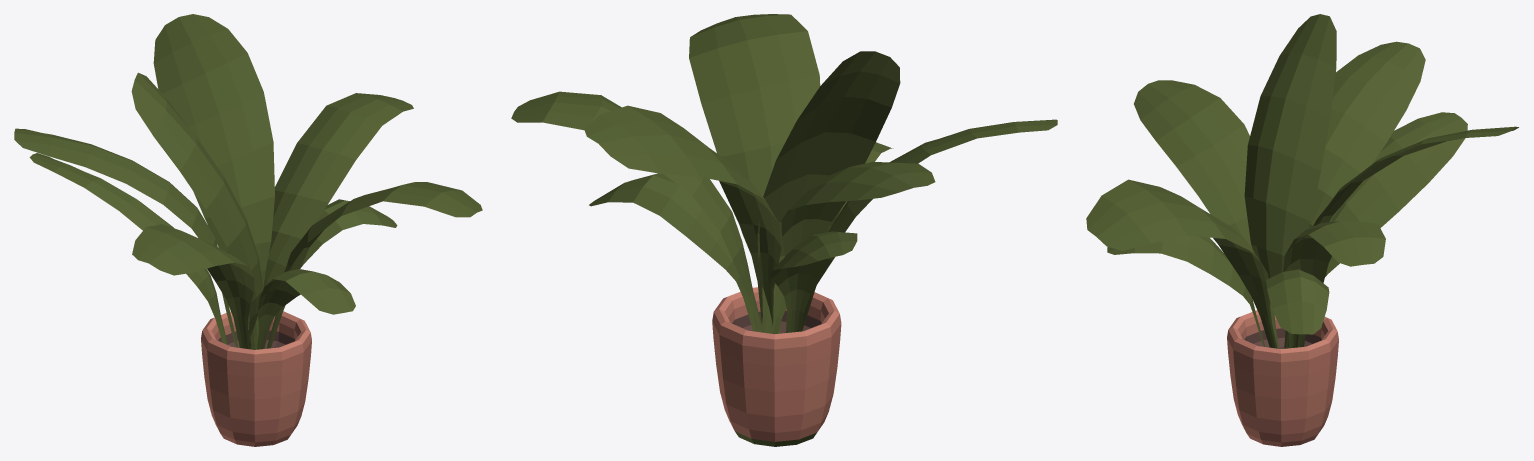
File: plant.obj
3 views of the same model, side by side, from view 1: azimuth 30°, elevation 25°; view 2: azimuth 150°, elevation 25°; view 3: azimuth 270°, elevation 25° (orthographic). The views are drawn at different scales.
Visible parts, largest first — view 1: Plane.018; view 2: Plane.018; view 3: Plane.018.
Part boxes in pixels (bbox=[...]): Plane.018: bbox=[14, 14, 482, 446]; Plane.018: bbox=[511, 14, 1057, 446]; Plane.018: bbox=[1086, 14, 1518, 446].
Bounding box in the file's own units: 4.2 × 3.96 × 4.17.
Materials: 2 (2 with a texture image).
